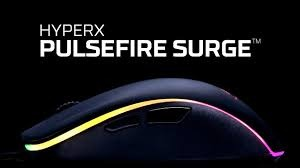mouse: (17, 77, 300, 168)
